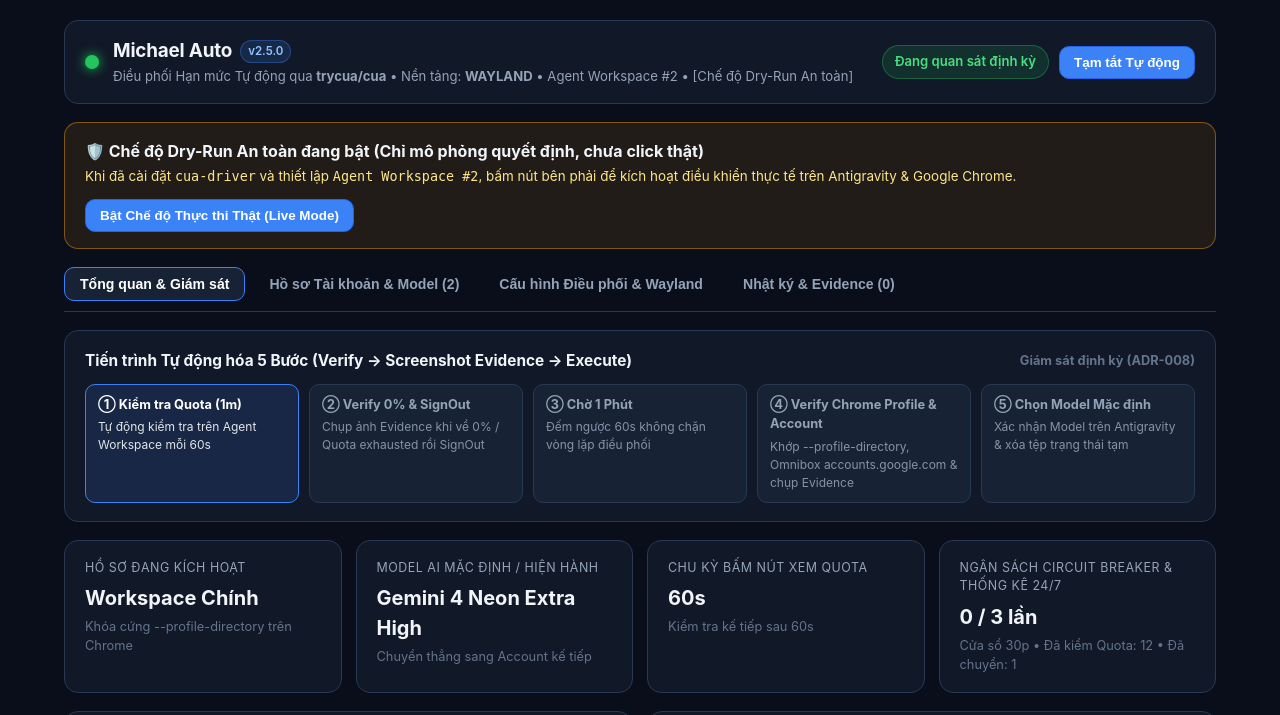
Test case: Michael Auto Desktop Dashboard v2.5 Production › protects unsaved form edits from background config:updated events (P2-1 Dirty-Form Guard)
Expected: the text "Đang quan sát định kỳ" is shown, x1=882 y1=45 x2=1049 y2=79
Click the button "Hồ sơ Tài khoản & Model (2)" at (364, 284), box x1=253 y1=267 x2=475 y2=301
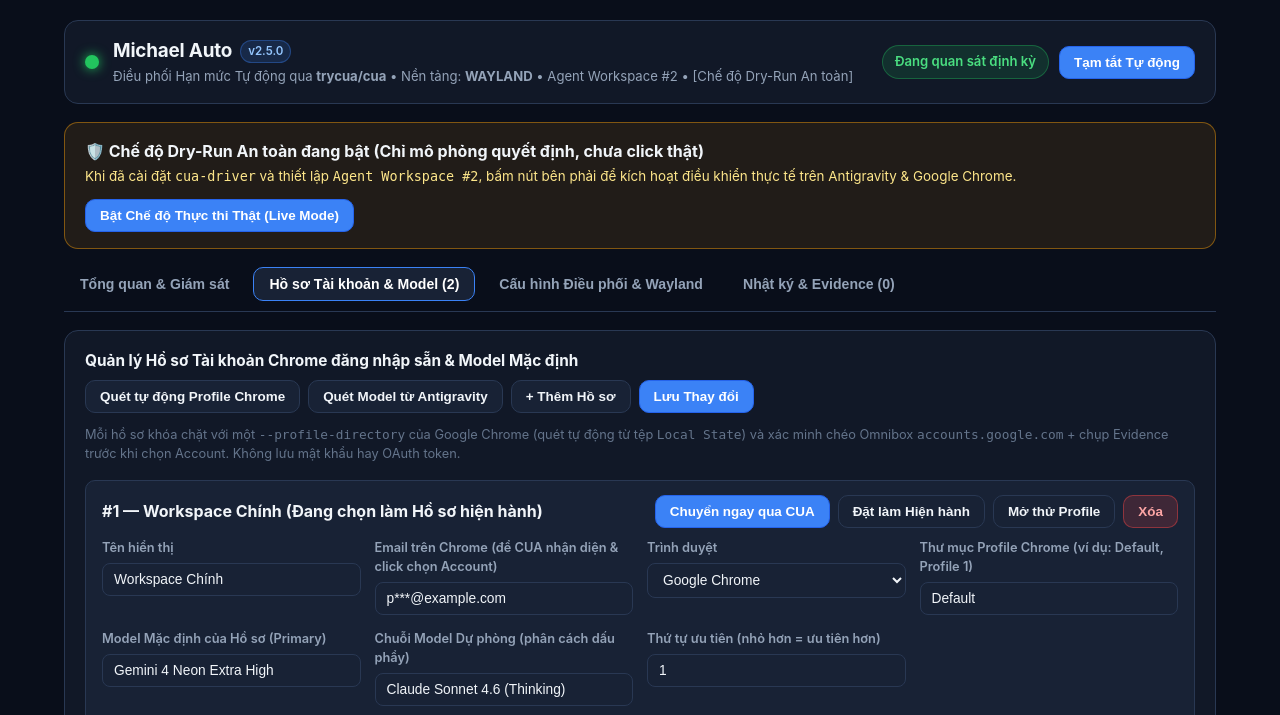
Replace the text in the 1st field showing "Workspace Chính" with "My Unsaved Custom Name" at (231, 579), box x1=102 y1=563 x2=360 y2=596
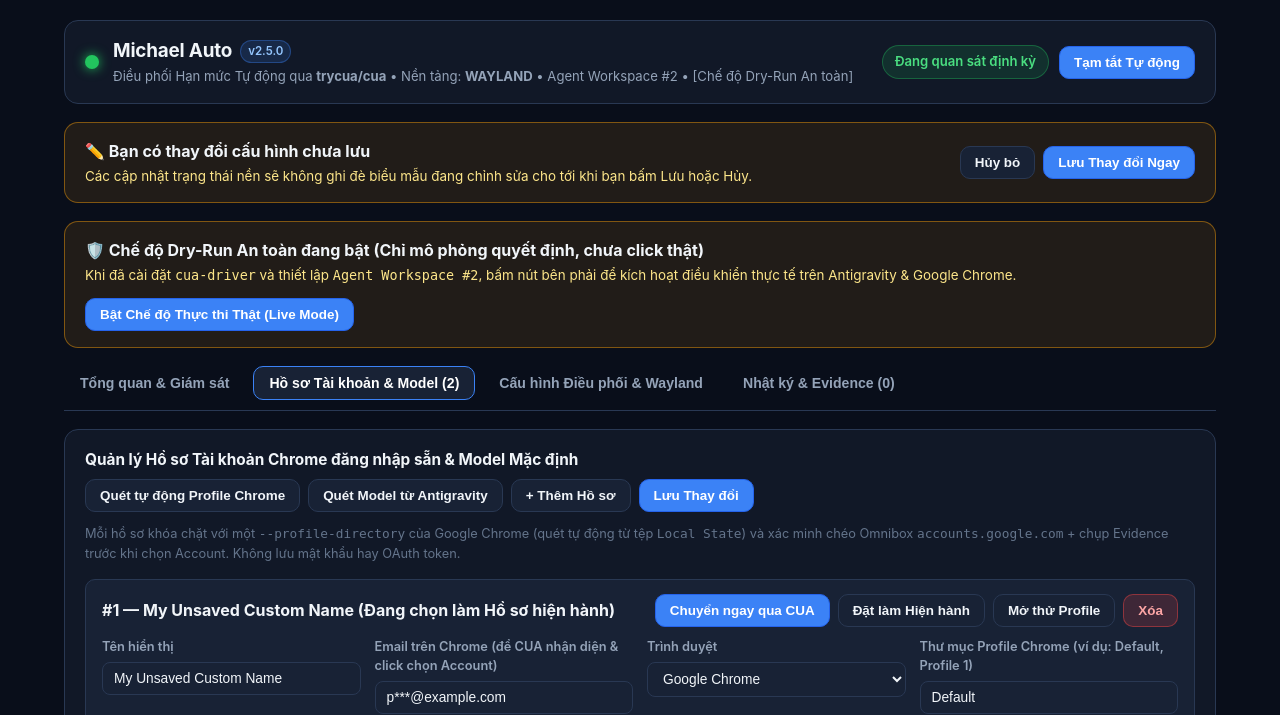
Expected: the element with test id "unsaved-changes-banner" is shown, x1=64 y1=122 x2=1216 y2=203
# Clicking Discard restores serverConfig cleanly and clears the dirty banner.
Click the button "Hủy bỏ" at (997, 163), box x1=960 y1=146 x2=1035 y2=179
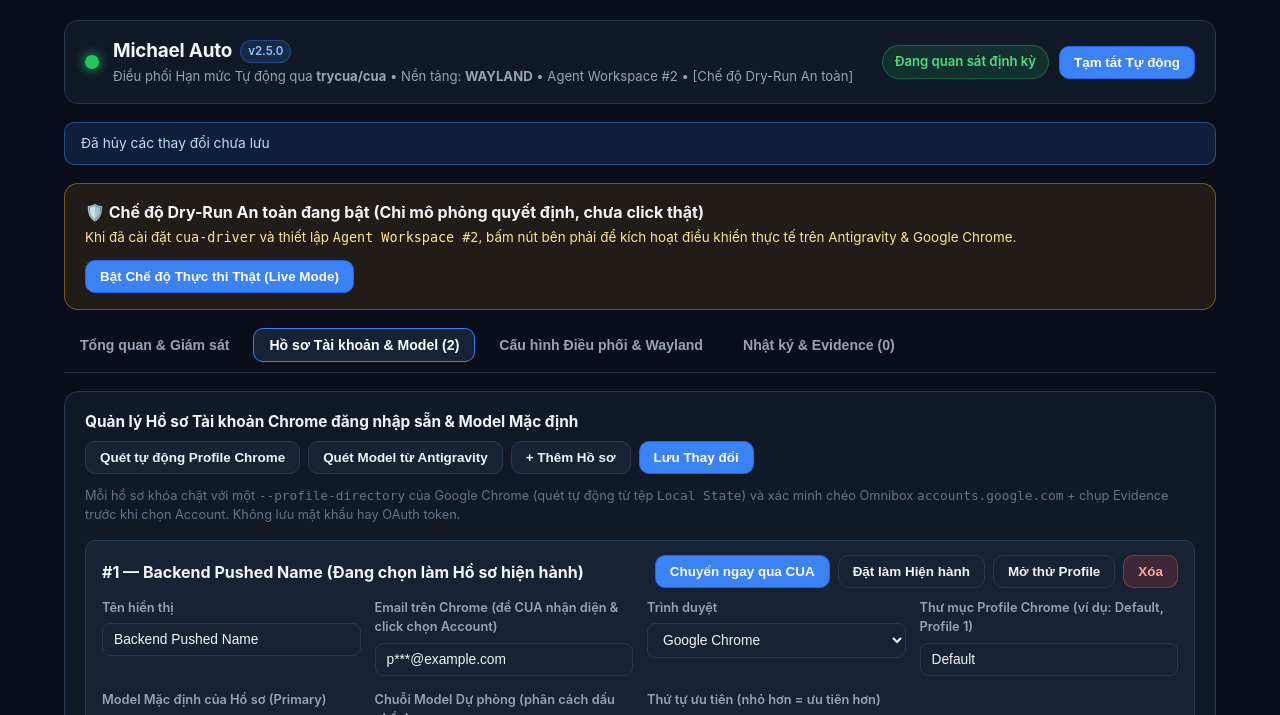
Expected: the element with test id "unsaved-changes-banner" is gone
Expected: the 1st field showing "Backend Pushed Name" is shown, x1=102 y1=623 x2=360 y2=656
